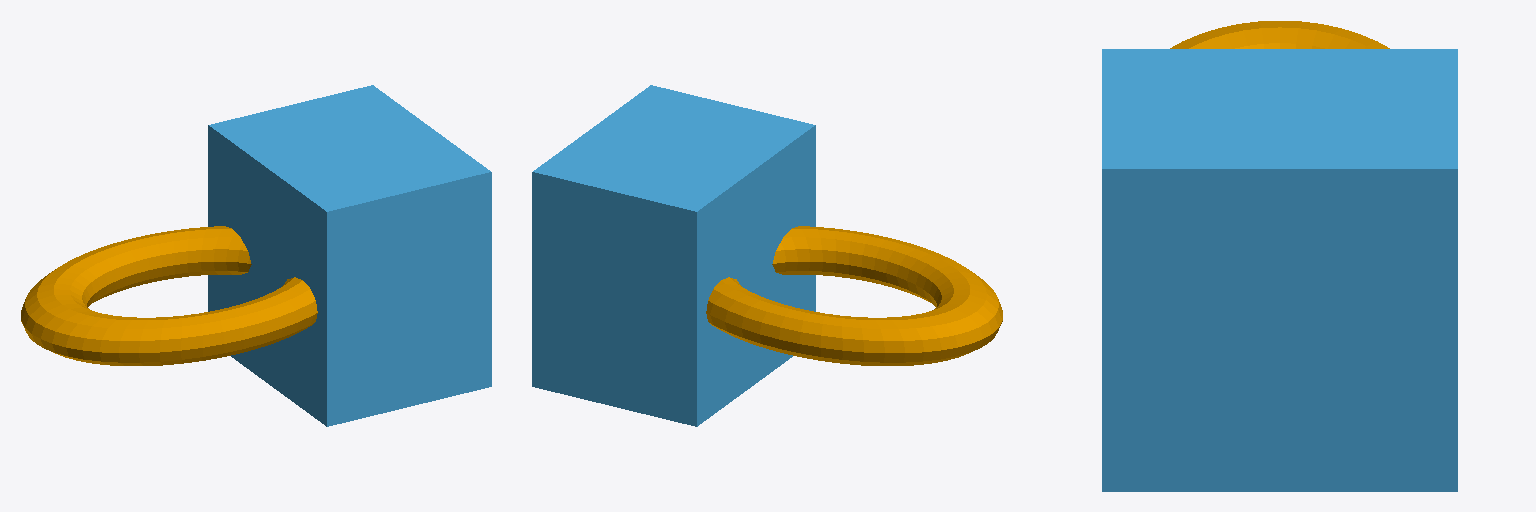
robot.urdf — chain_end:
<?xml version="1.0" ?>
<robot name="chain_end">
  <link name="torus">
    <visual>
      <origin xyz="0 0 0"/>
      <geometry>
        <mesh filename="package://meshes/torus.stl"/>
      </geometry>
    </visual>
    <collision>
      <origin xyz="0 0 0"/>
      <geometry>
        <mesh filename="package://meshes/torus.stl"/>
      </geometry>
    </collision>
    <inertial>
      <mass value="0.1"/>
      <inertia ixx="0.01" ixy="0.0" ixz="0.0" iyy="0.01" iyz="0.0" izz="0.01"/>
    </inertial>
  </link>
  <link name="box">
    <visual>
      <origin xyz="0 0 0"/>
      <geometry>
        <box size="0.04 0.05 0.05" />
      </geometry>
    </visual>
    <collision>
      <origin xyz="0 0 0"/>
      <geometry>
        <box size="0.04 0.05 0.05" />
      </geometry>
    </collision>
    <inertial>
      <mass value="0.1"/>
      <inertia ixx="0.01" ixy="0.0" ixz="0.0" iyy="0.01" iyz="0.0" izz="0.01"/>
    </inertial>
  </link>
  <joint name="torus_box" type="fixed">
    <origin xyz="0.04 0 0"/>
    <parent link="torus"/>
    <child link="box"/>
  </joint>
</robot>

--- Facts derived from the render (not from the file) ---
Views: 3 orthographic renders of the robot side by side, from view 1: azimuth 30°, elevation 25°; view 2: azimuth 150°, elevation 25°; view 3: azimuth 270°, elevation 25°.
Robot: chain_end — 2 links, 1 joints (1 fixed); root link torus; default pose: every joint at zero.
Links seen in each view (by area): view 1: box, torus; view 2: box, torus; view 3: box, torus.
Boxes of the visible links, <box> form: box: <box>208,85,491,426</box>; torus: <box>21,226,317,365</box>; box: <box>532,85,815,426</box>; torus: <box>706,226,1002,365</box>; box: <box>1102,49,1457,491</box>; torus: <box>1170,21,1389,48</box>.
Bounding box of the posed robot: 0.0975 × 0.05 × 0.05 m (x, y, z).
Meshes: 1 distinct files referenced, 1 mesh visuals loaded (1 binary STL).
